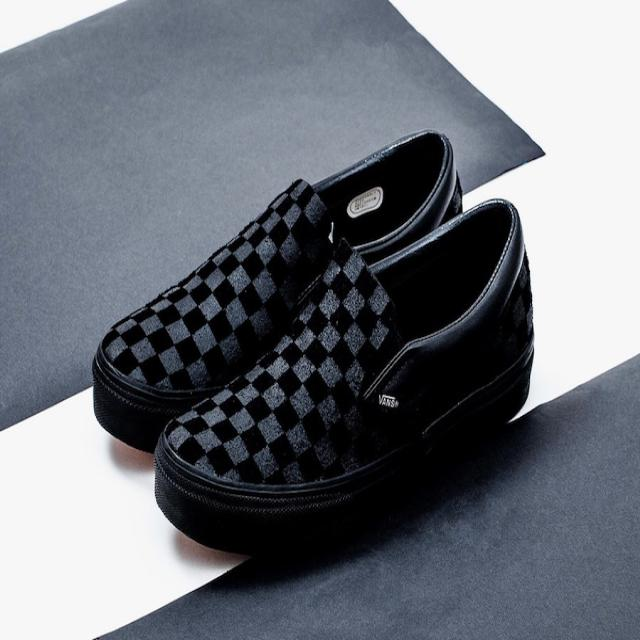shoe: (153, 192, 536, 562), (91, 126, 463, 451)
